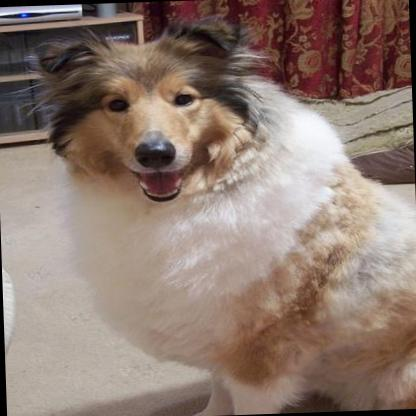collie: (29, 10, 416, 416)
